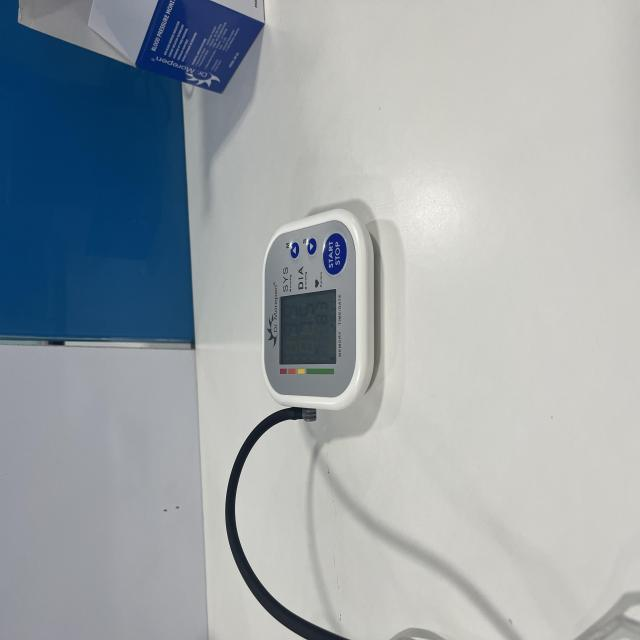bp: (262, 201, 382, 414)
